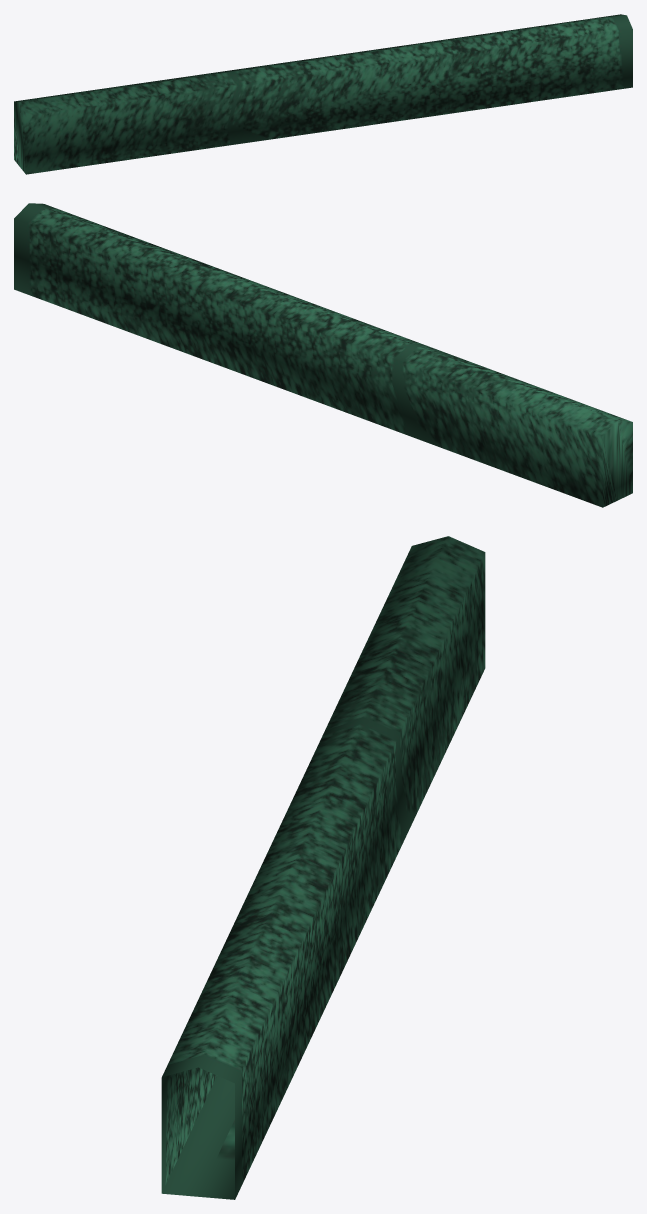
File: Exit2.fbx
3 renders of one model, top to bottom at view 1: azimuth 30°, elevation 25°; view 2: azimuth 150°, elevation 25°; view 3: azimuth 270°, elevation 25°, orthographic. The views are drawn at different scales.
Parts seen in each view (by area): view 1: Exit2; view 2: Exit2; view 3: Exit2.
Part boxes in pixels (x1,y1,x2,y2): Exit2: (14, 14, 632, 174); Exit2: (14, 203, 632, 507); Exit2: (161, 536, 485, 1199).
Bounding box in the file's own units: 3564 × 400 × 906.
